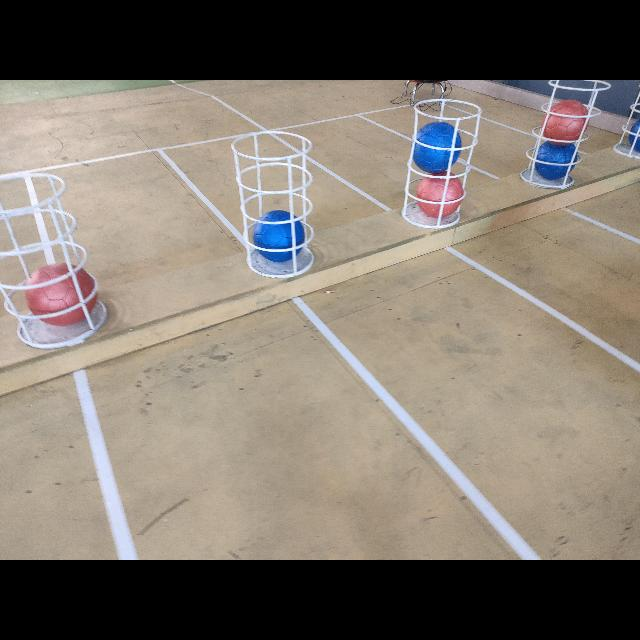B: (254, 211, 306, 261), (412, 120, 462, 172), (534, 141, 576, 183), (630, 118, 640, 154)
R: (25, 262, 97, 328), (541, 100, 591, 148), (416, 172, 464, 218)
